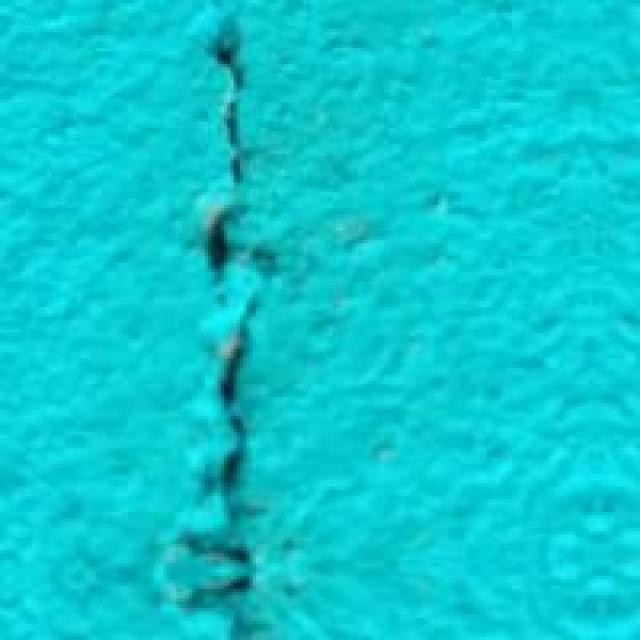Crack: (151, 4, 311, 631)
